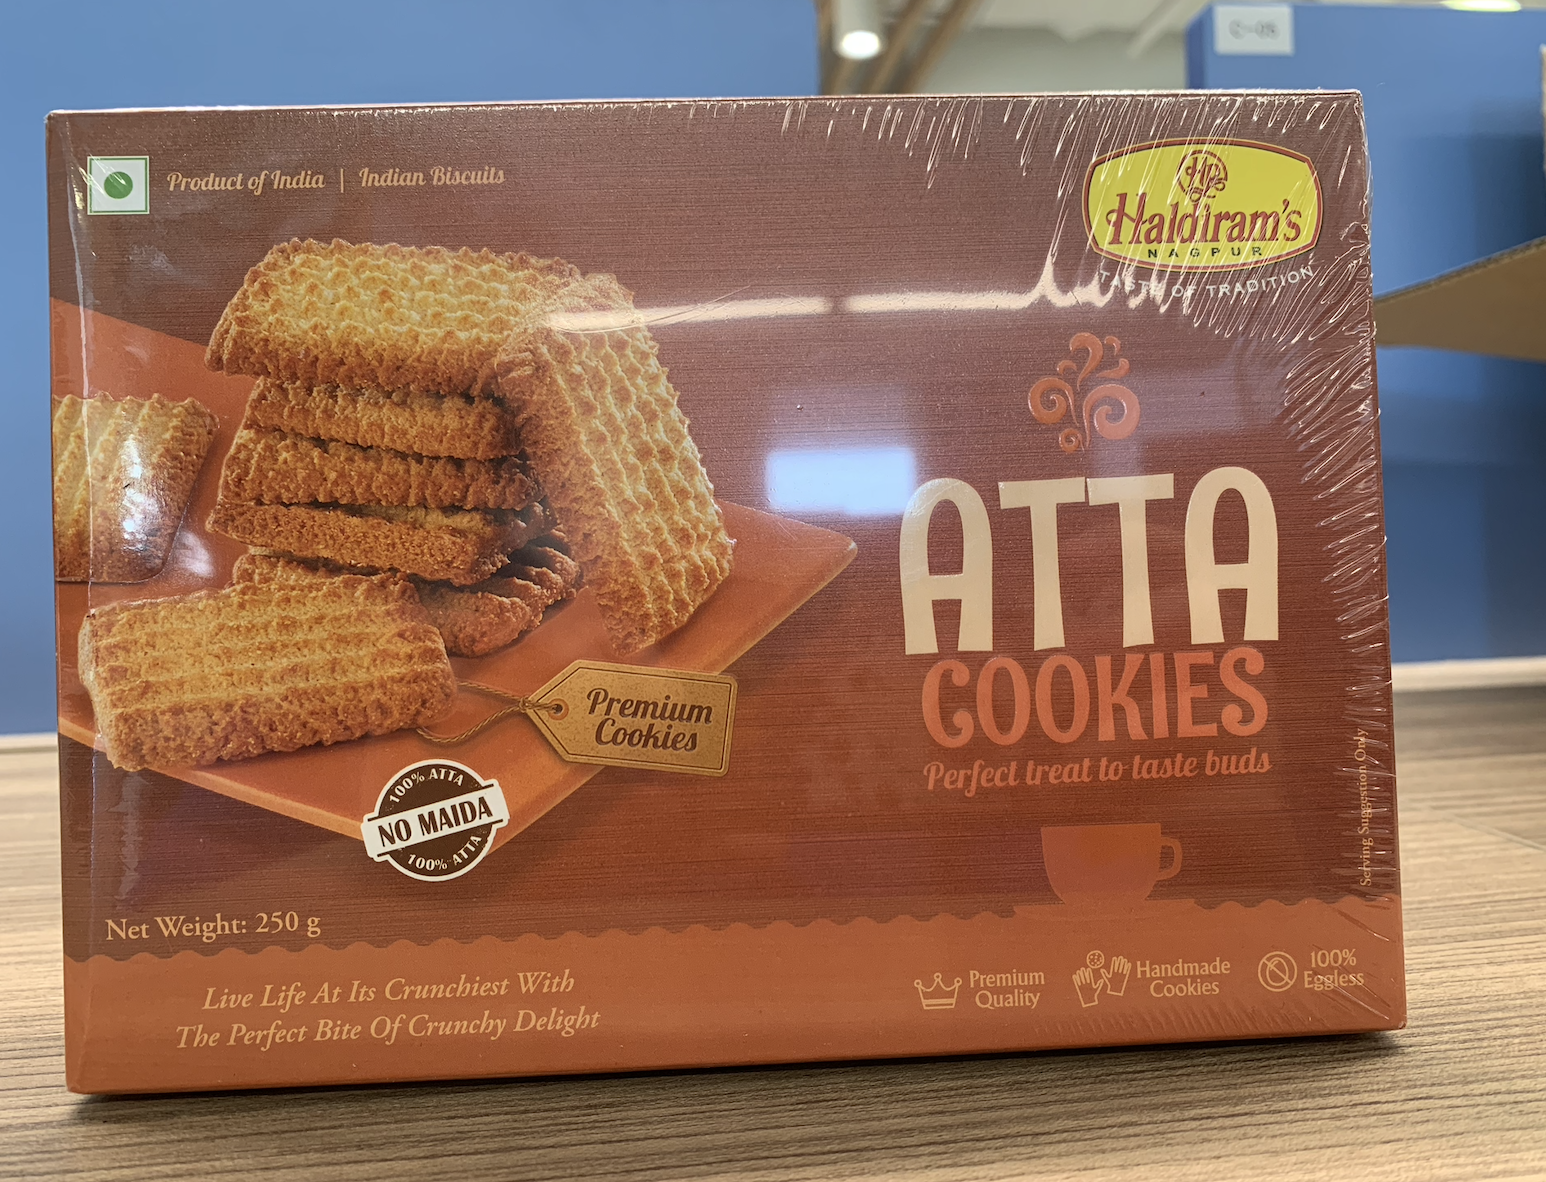cookies_150g: (92, 128, 1360, 1014)
